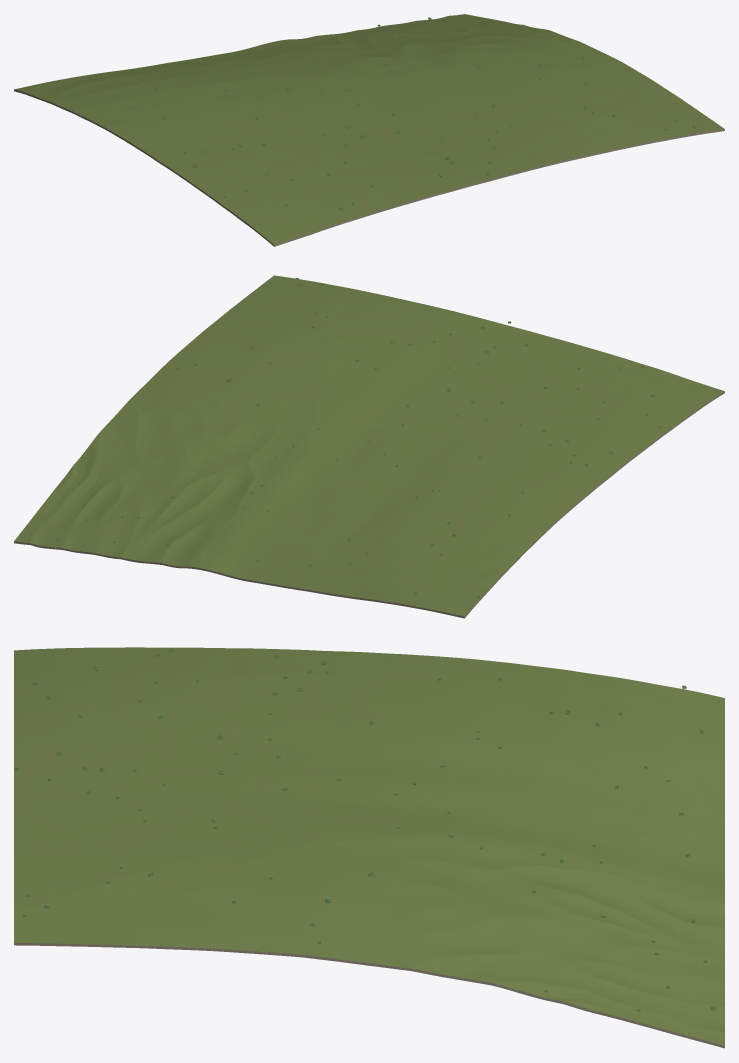
The model's file is parca_+7_+0-yakin.glb.
The picture shows the model from 3 angles, top to bottom: view 1: azimuth 30°, elevation 25°; view 2: azimuth 150°, elevation 25°; view 3: azimuth 270°, elevation 25°; orthographic projection. The views are drawn at different scales.
Visible parts, largest first — view 1: parca_+7_+0_arazi, parca_+7_+0_bitkiler; view 2: parca_+7_+0_arazi, parca_+7_+0_bitkiler; view 3: parca_+7_+0_arazi, parca_+7_+0_bitkiler.
Part boxes in pixels (x1,y1,x2,y2): parca_+7_+0_arazi: (14, 14, 724, 246); parca_+7_+0_bitkiler: (27, 17, 695, 227); parca_+7_+0_arazi: (14, 275, 724, 618); parca_+7_+0_bitkiler: (55, 278, 708, 598); parca_+7_+0_arazi: (14, 647, 724, 1048); parca_+7_+0_bitkiler: (14, 648, 718, 1011).
Bounding box in the file's own units: 1003 × 190 × 1000.
